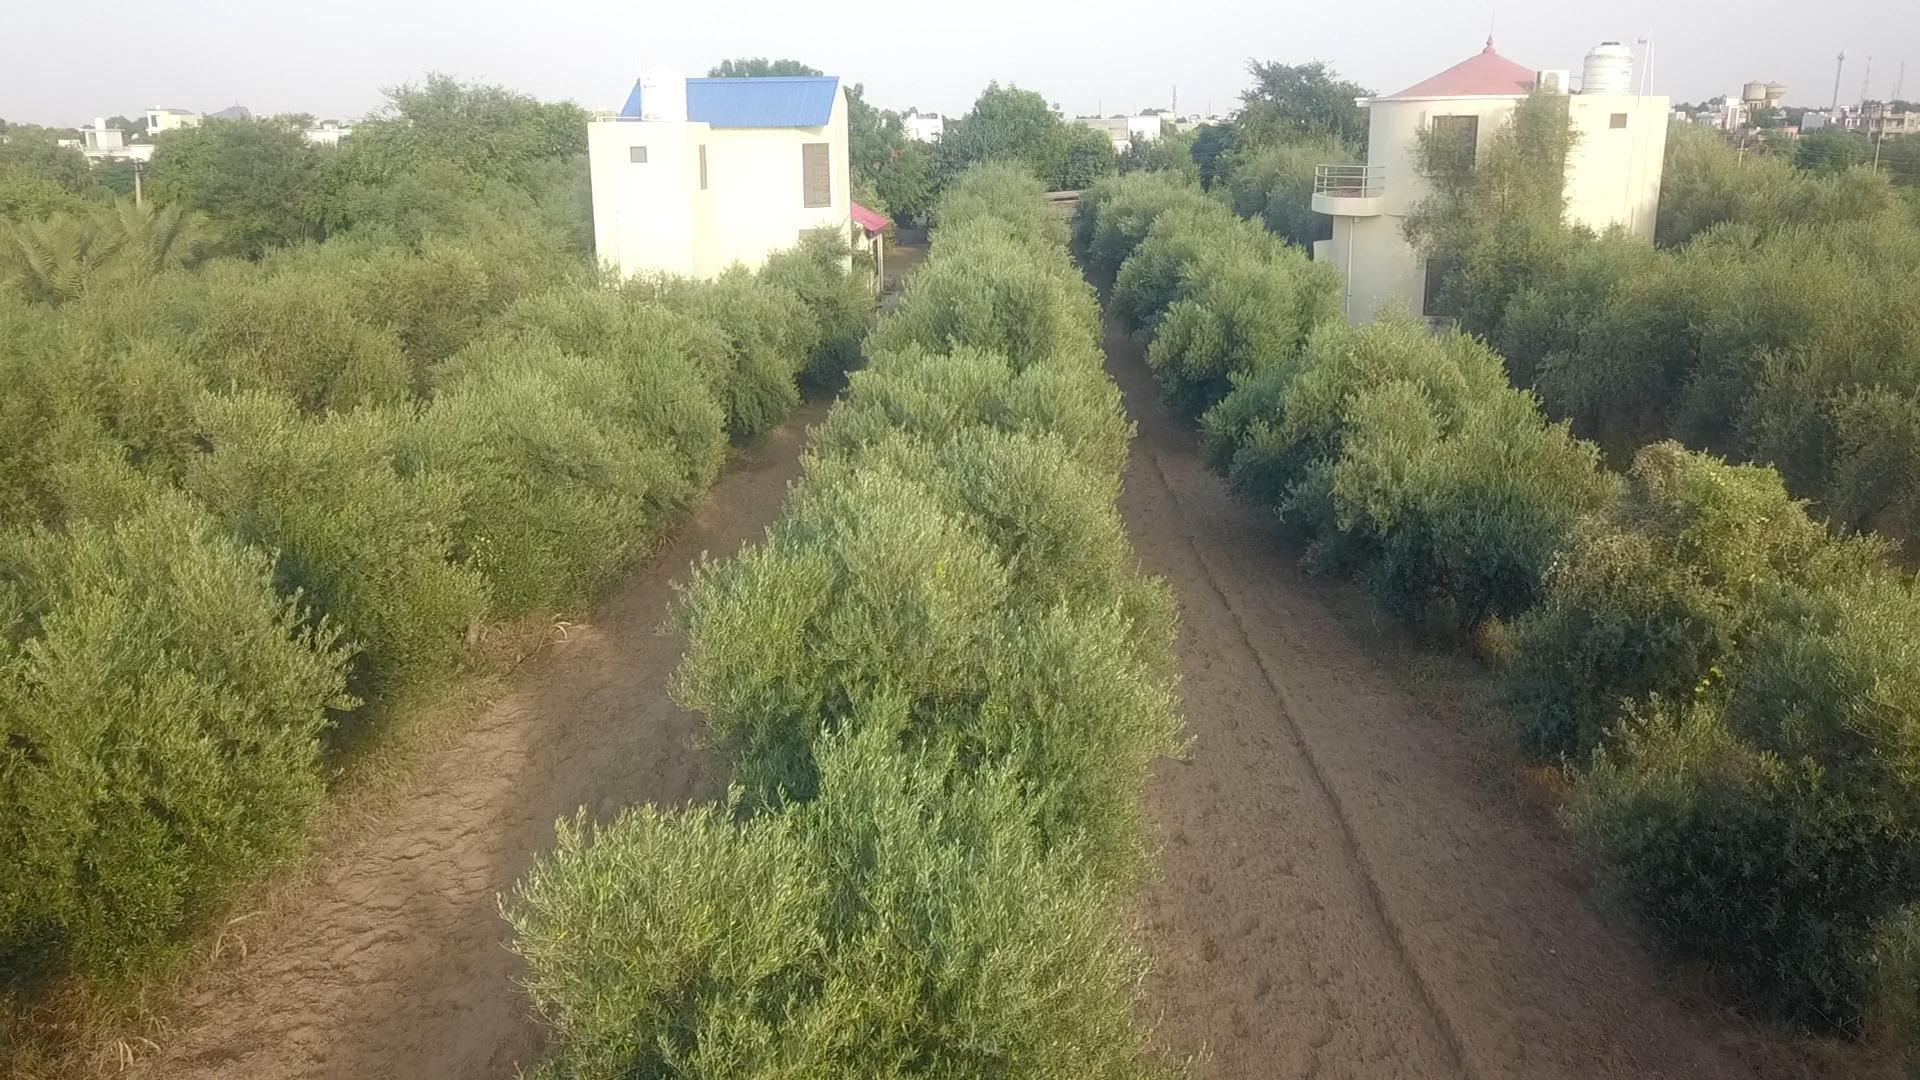canopy: (1072, 171, 1919, 1036), (0, 243, 872, 957), (508, 166, 1183, 1077), (1414, 99, 1919, 560), (0, 214, 570, 467)
road: (1104, 324, 1816, 1079), (149, 406, 822, 1079)
